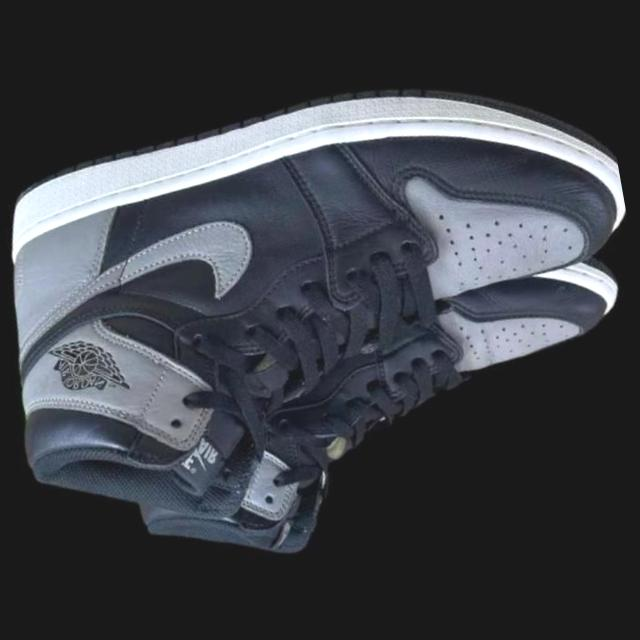nike_original_jordan: (0, 0, 640, 620), (86, 160, 640, 634)
